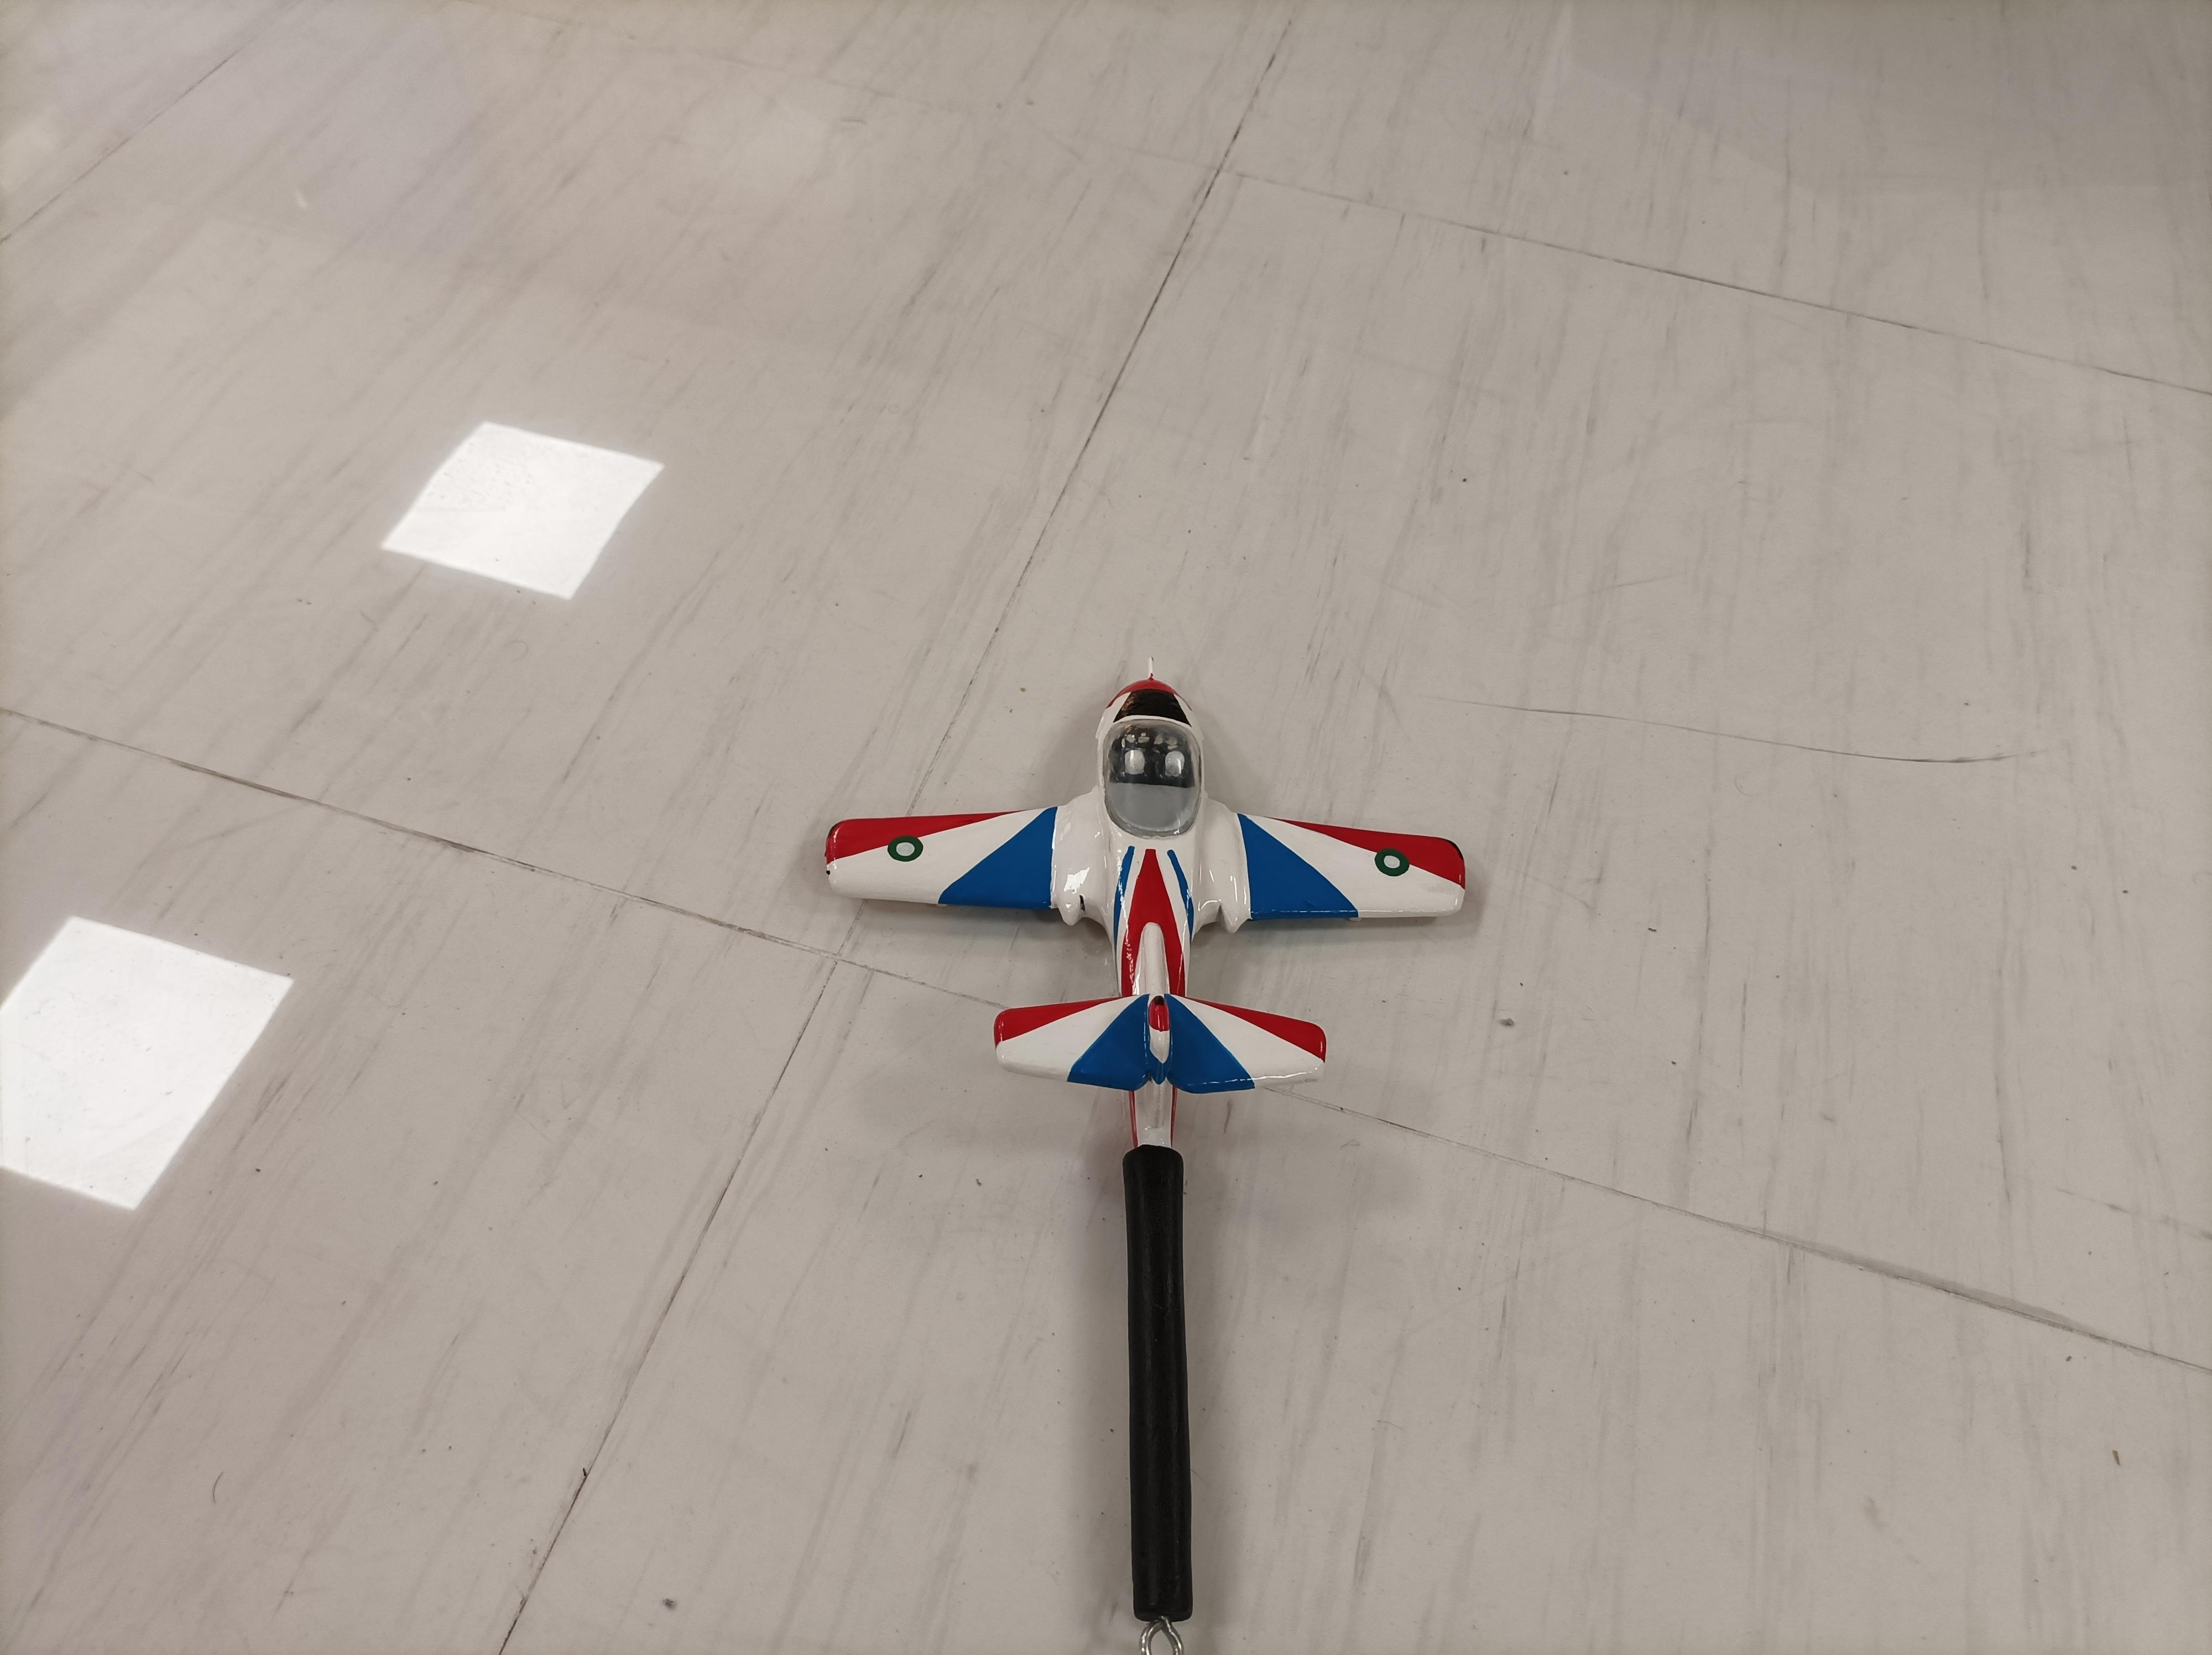Airplane: (813, 661, 1498, 1118)
